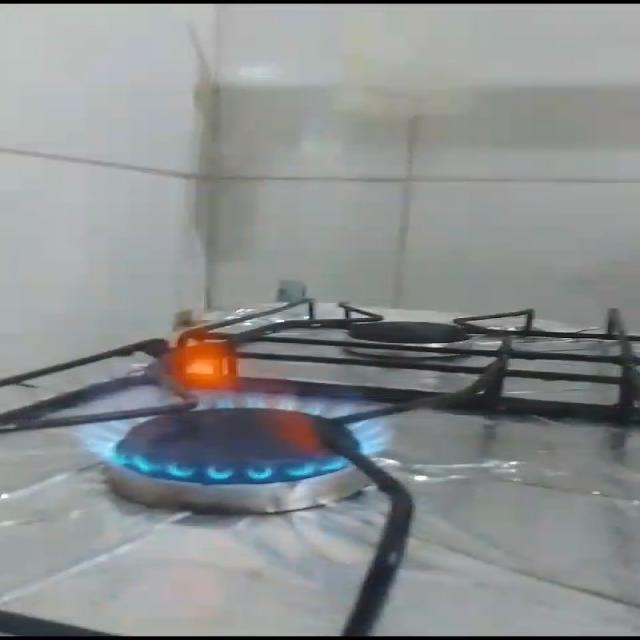fogo-ypXI: (61, 322, 400, 488)
